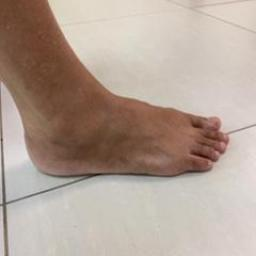Lateral View -Right Foot-: (6, 34, 244, 200)
